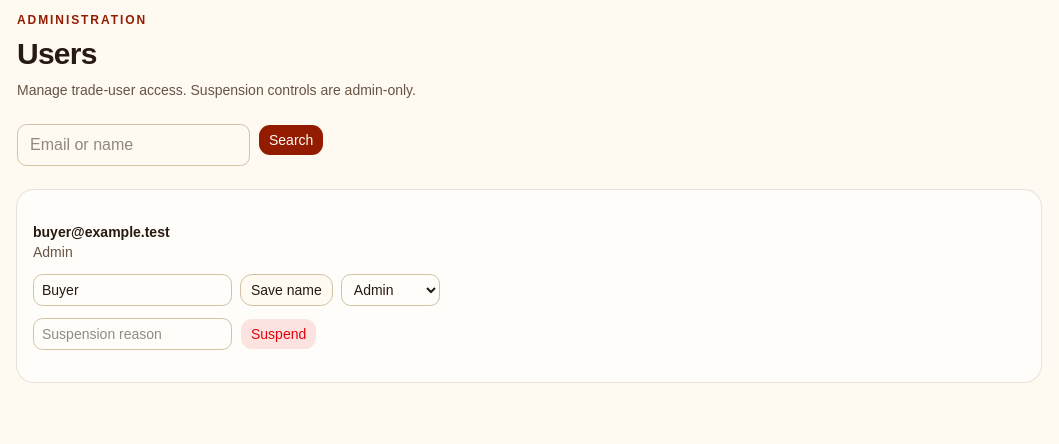
Test case: AdminUsersPage › translates coded API errors and does not surface backend prose
This screenshot has width=1059, height=444.
Expected: the heading "buyer@example.test" is shown, [33,224,170,240]
Select "Customer" in the dropdown named "Role" at x=390, y=290, box [341,274,440,306]
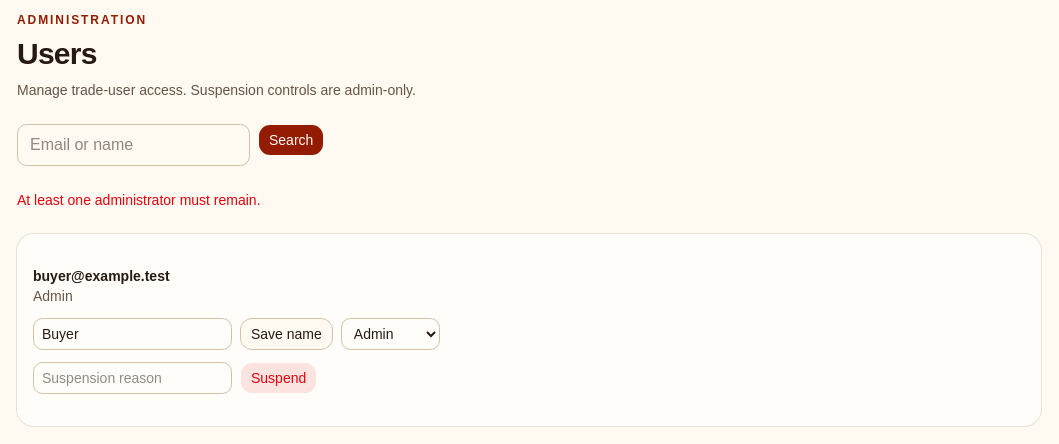
Expected: the message does not show "backend admin detail", [17,192,260,208]
Result: the message reads "At least one administrator must remain." at [17,192,260,208]
